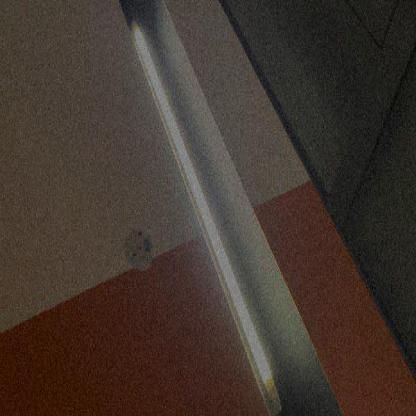light_on: (121, 11, 286, 415)
